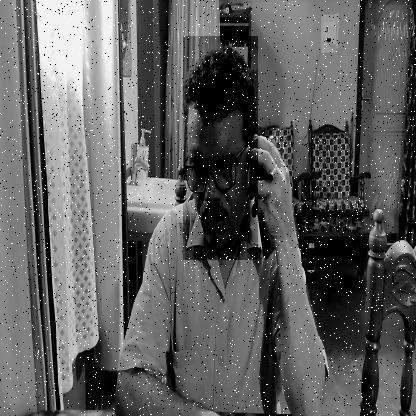Distracted: (183, 36, 258, 260)
